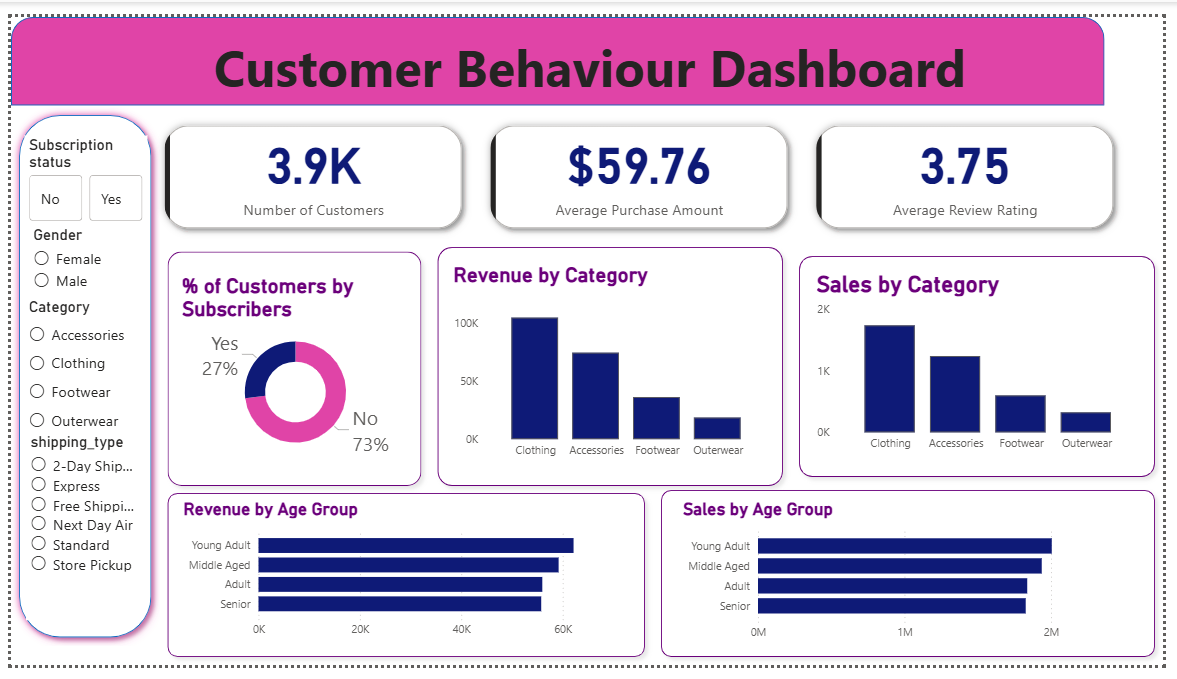

The dashboard page shown, as its layout file describes it:
{"tool":"powerbi","page":{"name":"Page 1","canvas":[1280,720],"ordinal":0},"visuals":[{"type":"cardVisual","fields":{"Data":["public customer_behavior.Number of Customers","public customer_behavior.Average Purchase Amount","public customer_behavior.Average Review Rating"]},"box":[153.3,103.3,1088.3,148.3],"z":0},{"type":"shape","box":[465,246.7,401.7,283.3],"z":0,"group":"g2"},{"type":"shape","box":[165,251.7,300,278.3],"z":0,"group":"g1"},{"type":"shape","box":[866.7,256.7,413.3,263.3],"z":0,"group":"g3"},{"type":"clusteredColumnChart","title":"Revenue by Category","fields":{"Category":["public customer_behavior.category"],"Y":["Sum(public customer_behavior.purchase_amount)"]},"box":[487.1,273.3,357.9,225.4],"z":1000,"group":"g2"},{"type":"clusteredColumnChart","title":"Sales by Category","fields":{"Category":["public customer_behavior.category"],"Y":["CountNonNull(public customer_behavior.customer_id)"]},"box":[889.5,281.4,368.3,209.5],"z":1000,"group":"g3"},{"type":"donutChart","title":"% of Customers by Subscribers ","fields":{"Category":["public customer_behavior.subscription_status"],"Y":["CountNonNull(public customer_behavior.customer_id)"]},"box":[184.3,285.5,261.4,210.7],"z":1000,"group":"g1"},{"type":"shape","box":[165,520,548.3,200],"z":1000,"group":"g5"},{"type":"shape","box":[0,0,1215,98.3],"z":2000},{"type":"textbox","box":[206.7,11.7,873.3,86.7],"z":3000},{"type":"group","id":"g1","title":"Group 1","box":[165,251.7,300,278.3],"z":4000},{"type":"group","id":"g2","title":"Group 2","box":[465,246.7,401.7,283.3],"z":5000},{"type":"group","id":"g3","title":"Group 2","box":[866.7,256.7,413.3,263.3],"z":6000},{"type":"shape","box":[0,100,165,598.3],"z":7000},{"type":"advancedSlicerVisual","title":"Subscription status","fields":{"Values":["public customer_behavior.subscription_status"]},"box":[15,131.7,136.7,100],"z":8000},{"type":"listSlicer","title":"Gender","fields":{"Values":["public customer_behavior.gender"]},"box":[20,231.7,125,223.3],"z":9000},{"type":"listSlicer","title":"Category","fields":{"Values":["public customer_behavior.category"]},"box":[15,311.7,130,286.7],"z":10000},{"type":"listSlicer","fields":{"Values":["public customer_behavior.shipping_type"]},"box":[16.7,461.7,128.3,208.3],"z":11000},{"type":"clusteredBarChart","title":"Revenue by Age Group","fields":{"Y":["Sum(public customer_behavior.purchase_amount)"],"Category":["public customer_behavior.age_group"]},"box":[186.9,535,497.3,163.3],"z":12000,"group":"g5"},{"type":"shape","box":[713.3,516.7,566.7,203.3],"z":12001,"group":"g4"},{"type":"clusteredBarChart","title":"Sales by Age Group","fields":{"Category":["public customer_behavior.age_group"],"Y":["Sum(public customer_behavior.customer_id)"]},"box":[741.5,535.3,514,166.1],"z":12002,"group":"g4"},{"type":"group","id":"g4","title":"Group 3","box":[713.3,516.7,566.7,203.3],"z":12003},{"type":"group","id":"g5","title":"Group 4","box":[165,520,548.3,200],"z":12004}]}

Visuals, with their boxes in screenshot pixels (x1, y1, x2, y2), scaled from the page's 1280x720 canvas onto the 1177x679 screenshot:
cardVisual - public customer_behavior.Number of Customers x public customer_behavior.Average Purchase Amount: [141,97,1142,237]
shape: [428,233,797,500]
shape: [152,237,428,500]
shape: [797,242,1176,490]
"Revenue by Category" clusteredColumnChart: [448,258,777,470]
"Sales by Category" clusteredColumnChart: [818,265,1157,463]
"% of Customers by Subscribers " donutChart: [169,269,410,468]
shape: [152,490,656,678]
shape: [0,0,1117,93]
textbox: [190,11,993,93]
"Group 1" group: [152,237,428,500]
"Group 2" group: [428,233,797,500]
"Group 2" group: [797,242,1176,490]
shape: [0,94,152,659]
"Subscription status" advancedSlicerVisual: [14,124,139,219]
"Gender" listSlicer: [18,219,133,429]
"Category" listSlicer: [14,294,133,564]
listSlicer - public customer_behavior.shipping_type: [15,435,133,632]
"Revenue by Age Group" clusteredBarChart: [172,505,629,659]
shape: [656,487,1176,678]
"Sales by Age Group" clusteredBarChart: [682,505,1154,661]
"Group 3" group: [656,487,1176,678]
"Group 4" group: [152,490,656,678]
